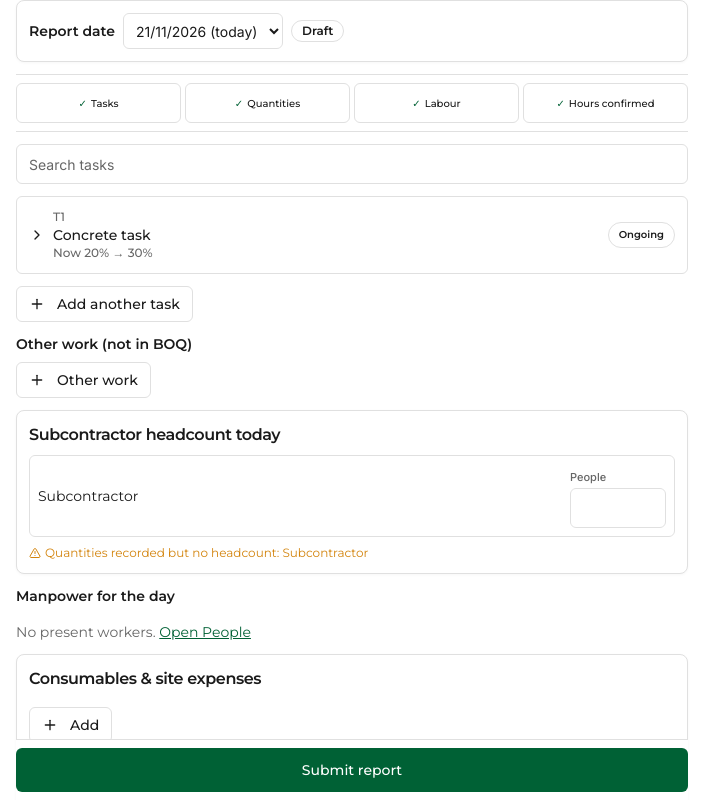
Test case: security matrix: site_engineer › loads project quantities and preserves package validation without site monetary data
The width and height of the screenshot is (705, 800).
Click the button "T1 Concrete task Now 20% → 30% Ongoing" at [102, 235], box [17,197,687,273]
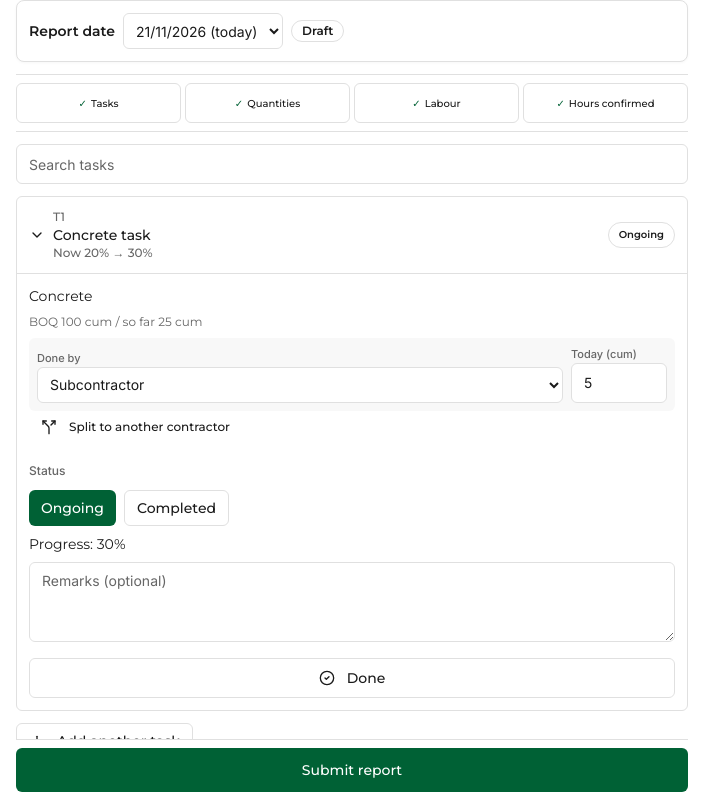
Check: the number field named "Quantity today" holds "5", box [571,362,667,402]
